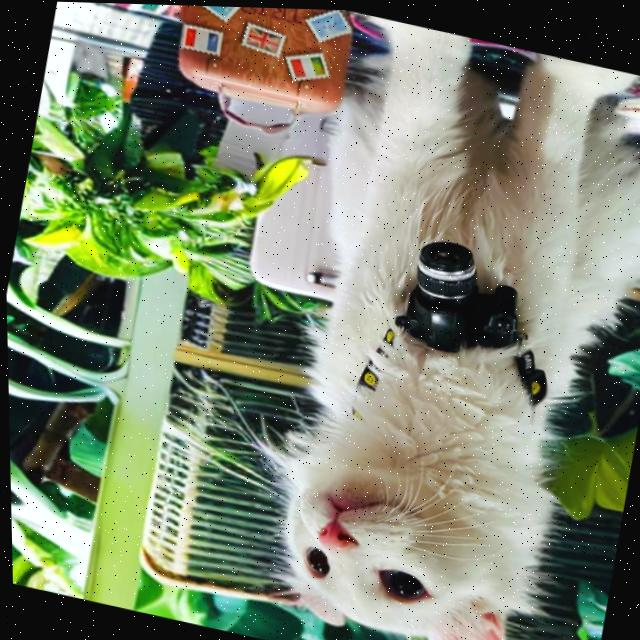American Curl: (224, 5, 640, 640)
